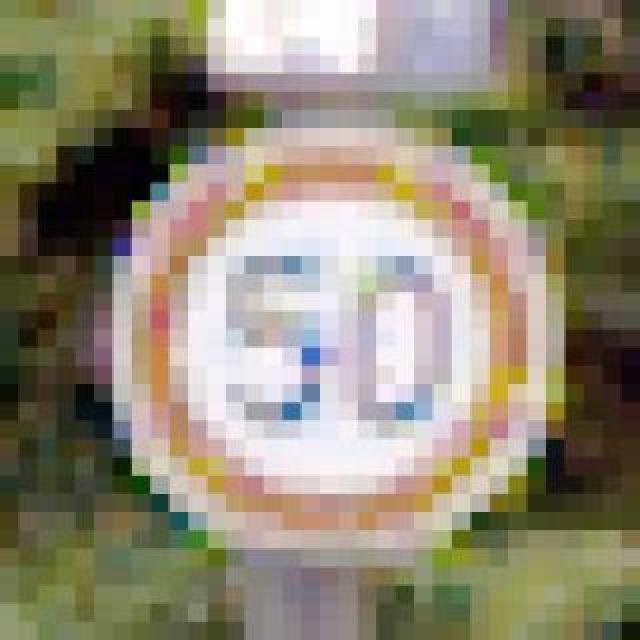50 kph: (94, 110, 546, 550)
